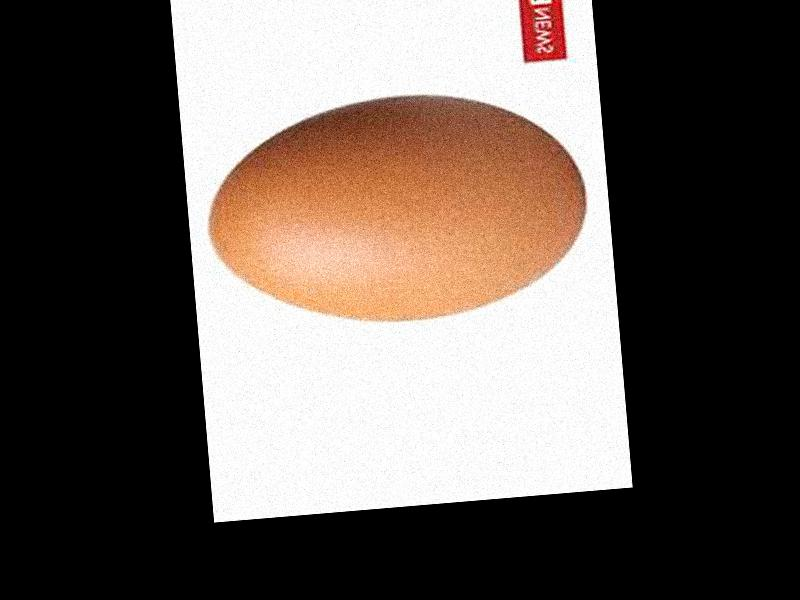Eggs: (202, 82, 592, 336)
